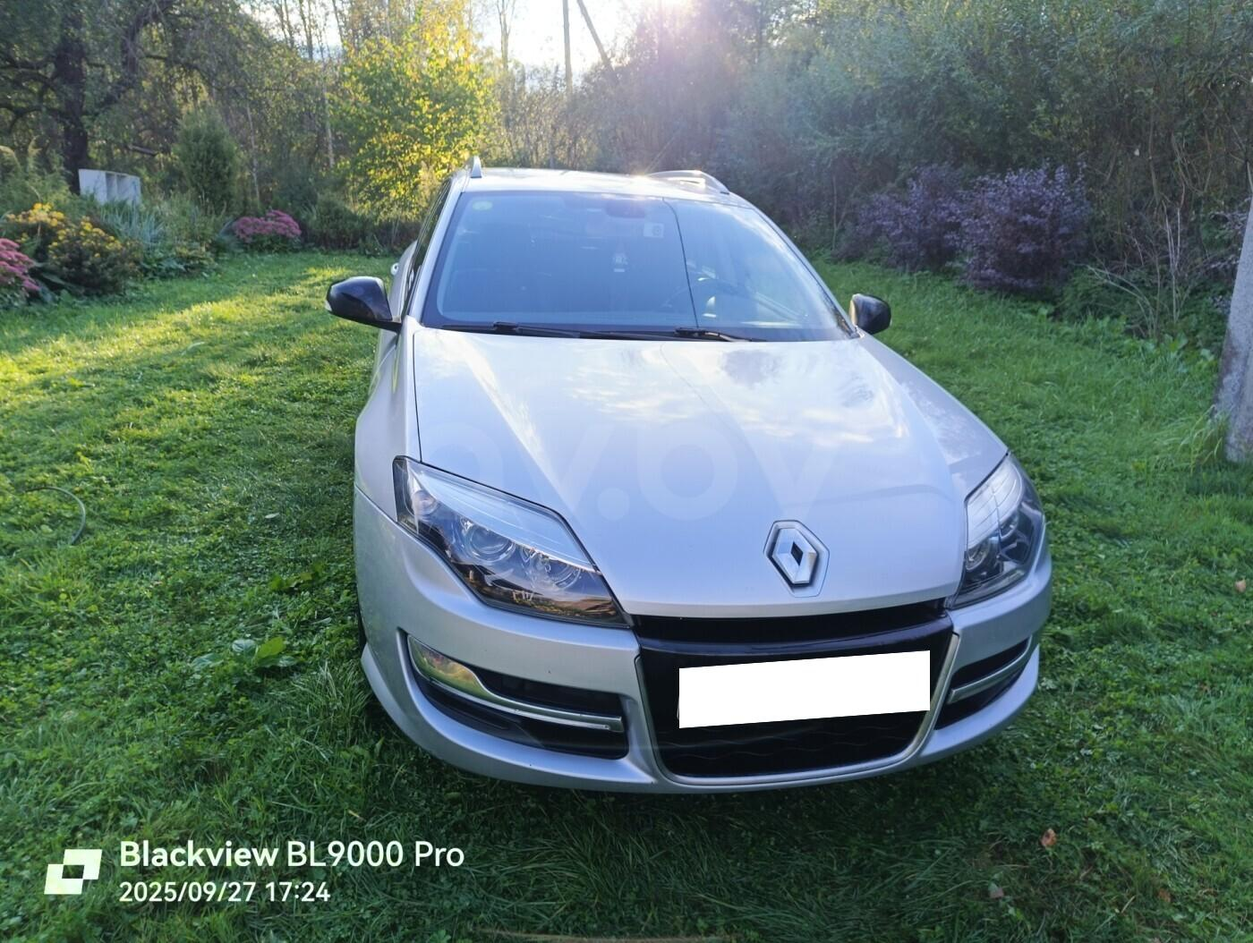Laguna_2010-2015: (321, 158, 1060, 809)
